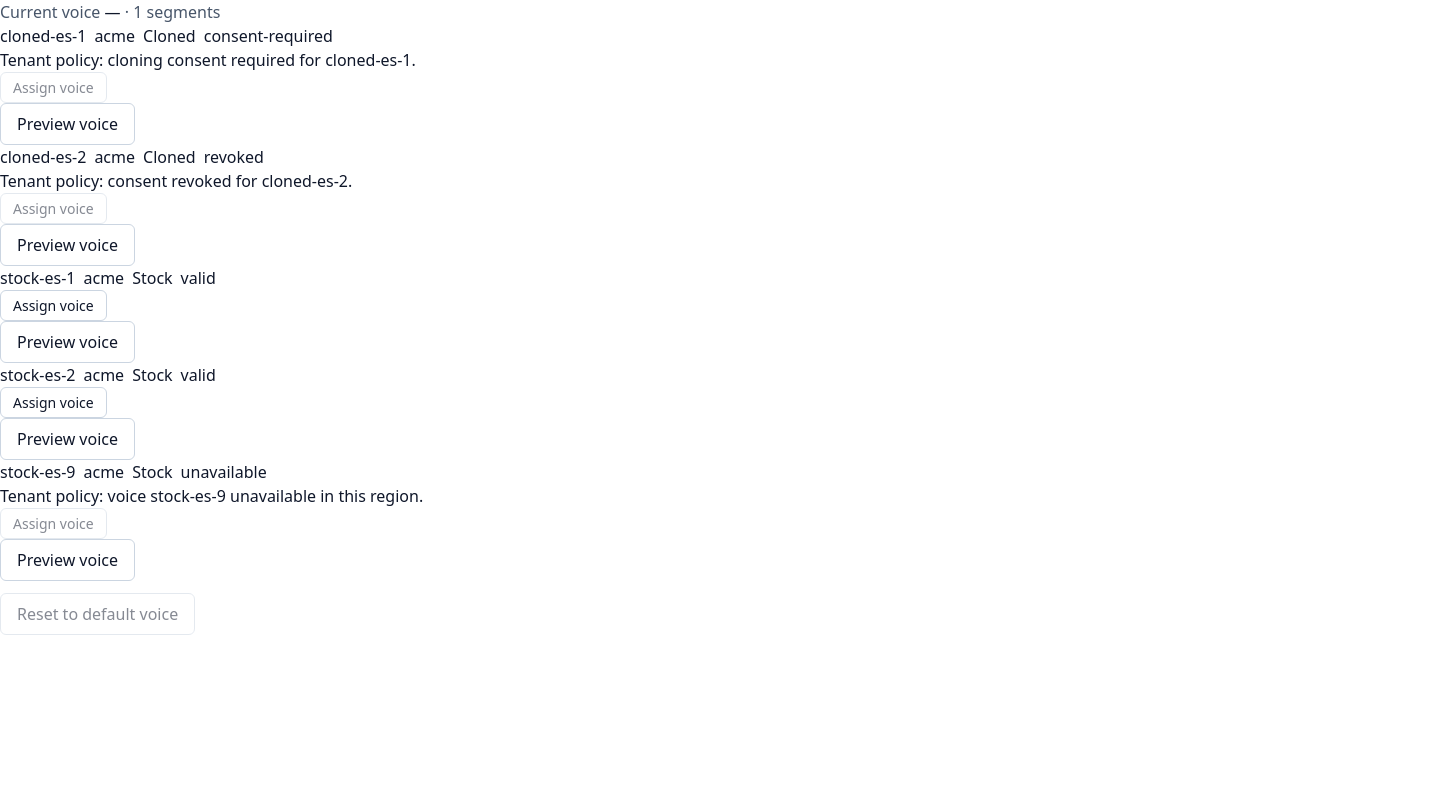
Scenario: impact dialog paths (R2) › precedes assign with segments, invalidation, and cost; confirm mutates
The width and height of the screenshot is (1440, 810).
Expected: the list item with test id "voices-option-stock-es-2" is shown, [0,364,216,460]
Click the button with test id "voices-select-voice-stock-es-2".
click(53, 402)  # box [0,387,107,418]
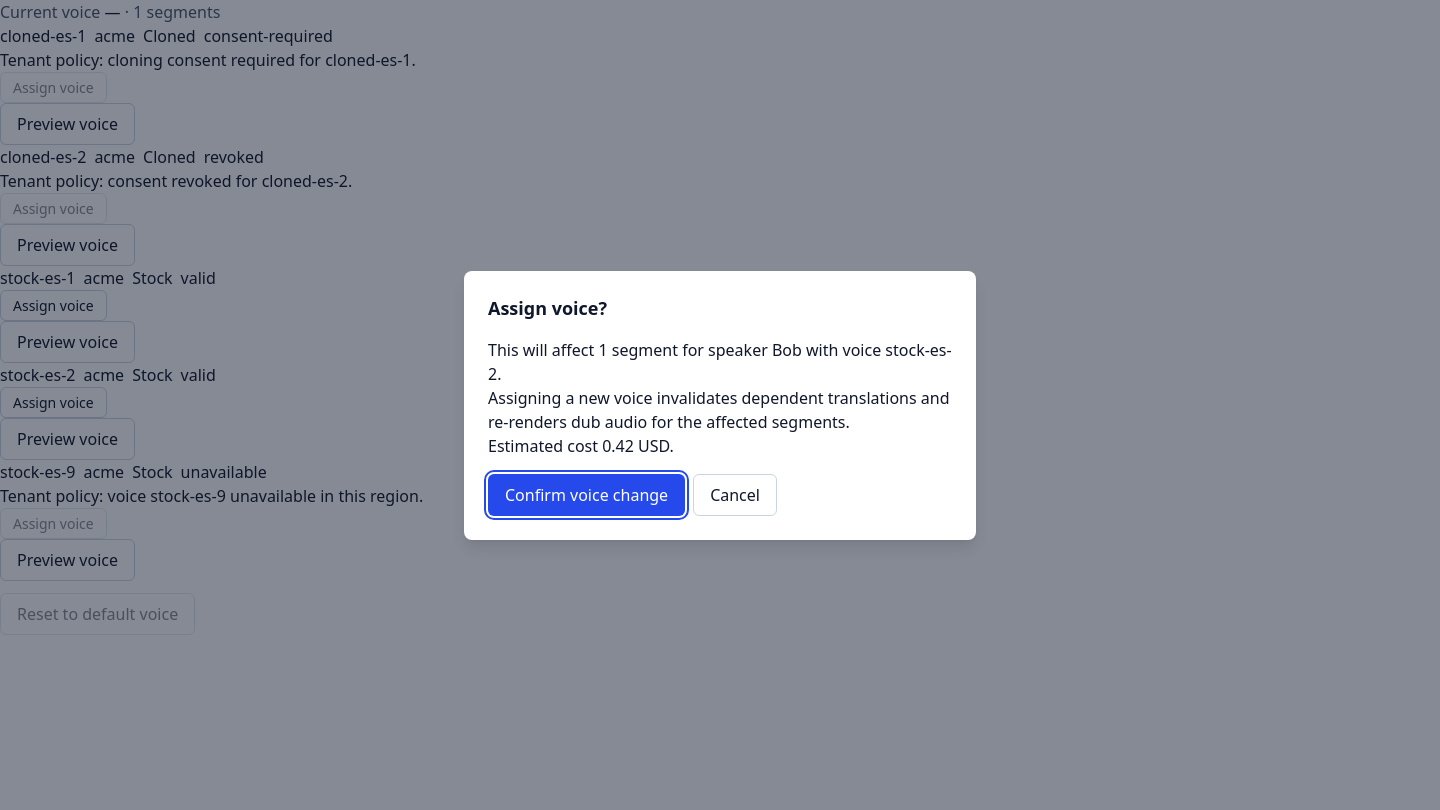
Expected: the element with test id "voices-impact-dialog" is shown, [488,338,952,516]
Expected: the text with test id "voices-impact-segments" shows "1 segment", [488,338,952,384]
Expected: the text with test id "voices-impact-invalidation" shows "invalidates", [488,386,950,432]
Click the button with test id "voices-impact-confirm".
click(587, 494)  # box [488,474,685,516]
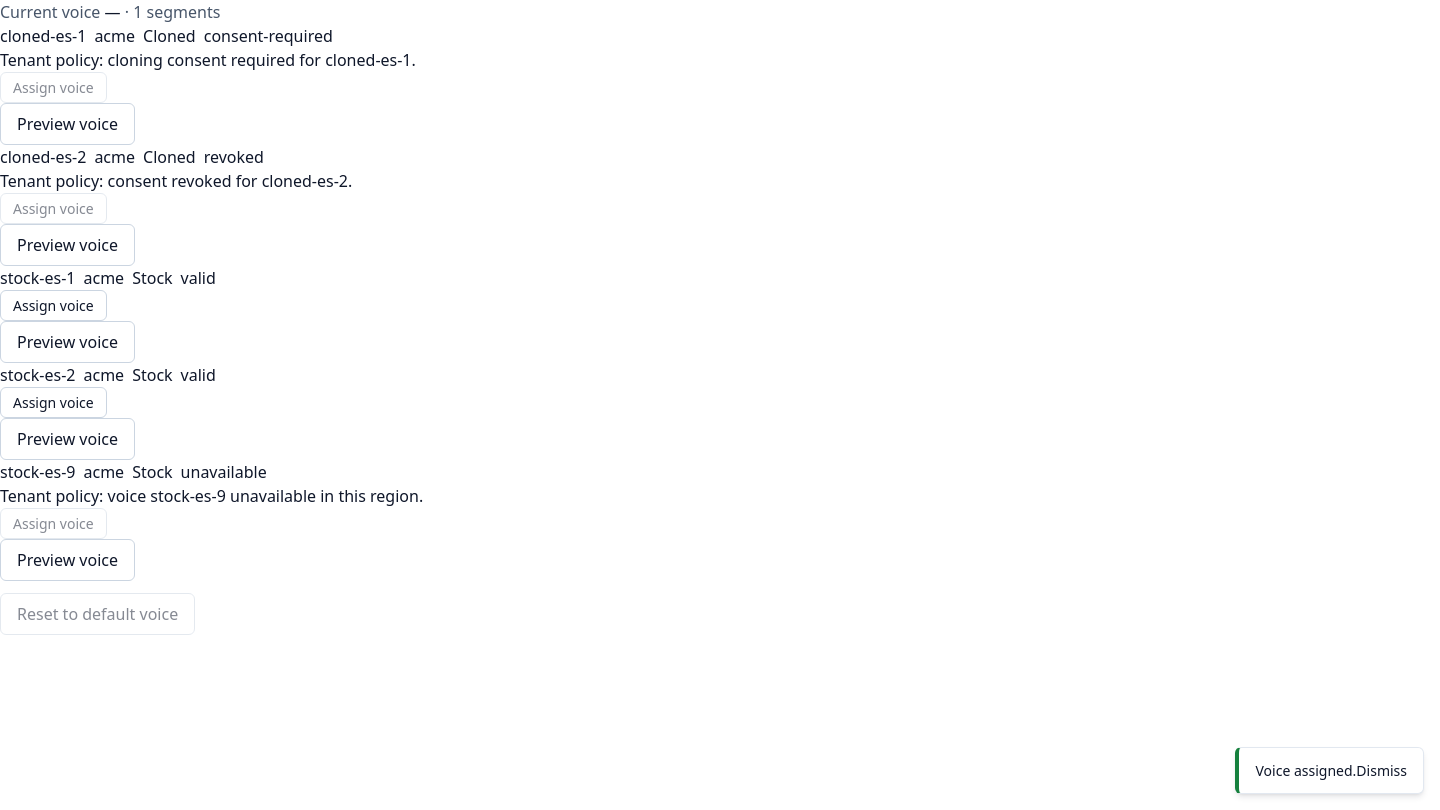
Expected: the element with test id "voices-impact-dialog" is gone
